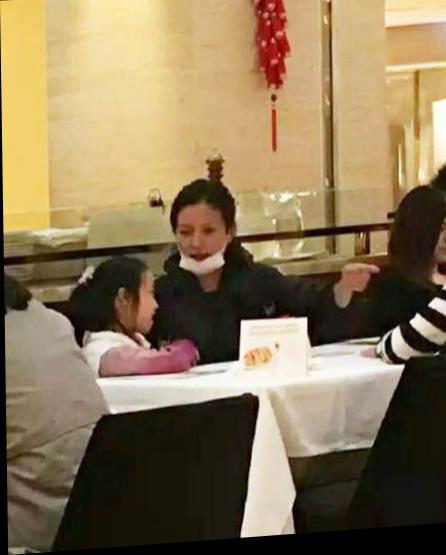NONE: (117, 287, 163, 339), (425, 221, 446, 272)
WRONG: (175, 215, 235, 278)
